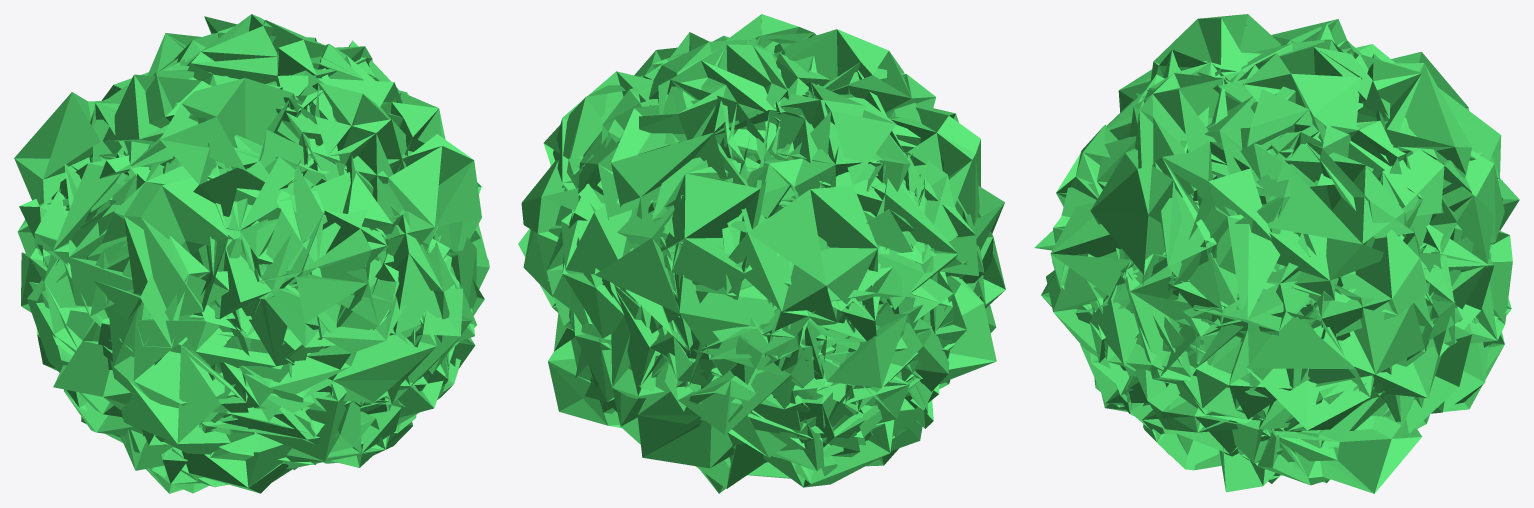
3 views of the same model, side by side, from view 1: azimuth 30°, elevation 25°; view 2: azimuth 150°, elevation 25°; view 3: azimuth 270°, elevation 25° (orthographic).
Visible parts, largest first — view 1: Sphere; view 2: Sphere; view 3: Sphere.
Part boxes in pixels (x1,y1,x2,y2): Sphere: (14, 14, 489, 493); Sphere: (518, 14, 1005, 493); Sphere: (1034, 14, 1519, 493).
Bounding box in the file's own units: 3.41 × 3.29 × 3.35.
